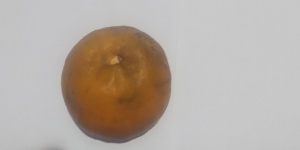BAD: (60, 28, 173, 140)
